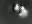person: (20, 6, 30, 20), (15, 4, 21, 13)
